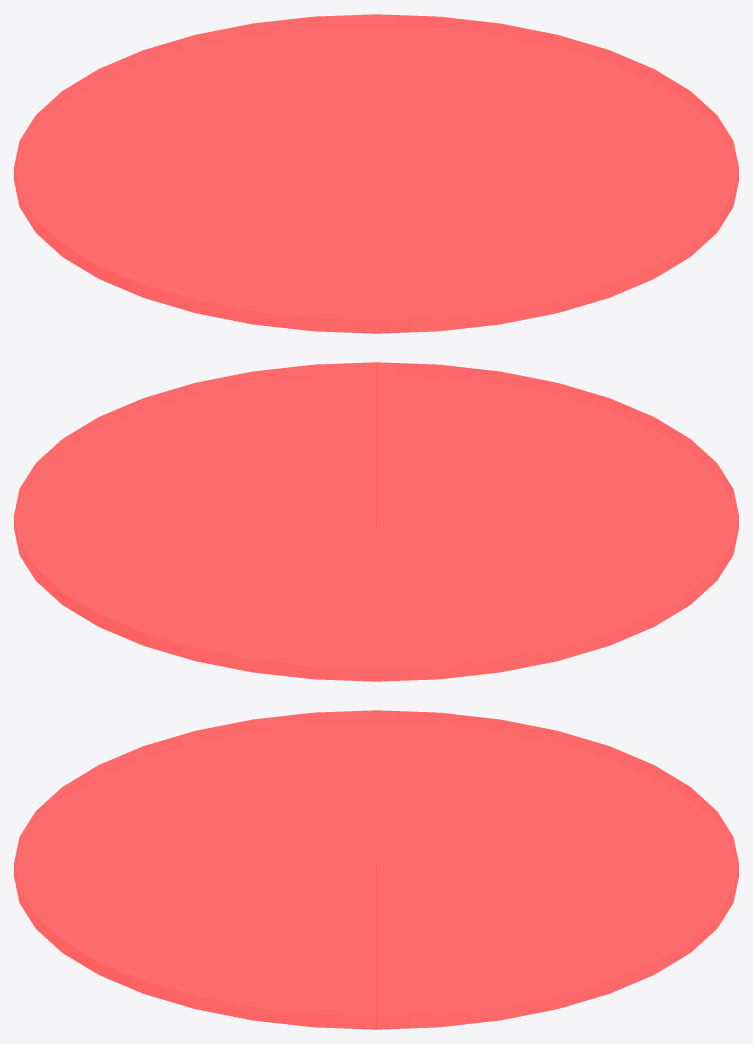
File: red_medium_plane.FBX
3 renders of one model, top to bottom at view 1: azimuth 30°, elevation 25°; view 2: azimuth 150°, elevation 25°; view 3: azimuth 270°, elevation 25°, orthographic.
Parts seen in each view (by area): view 1: Cylinder001; view 2: Cylinder001; view 3: Cylinder001.
Part boxes in pixels (x1,y1,x2,y2): Cylinder001: (14, 14, 738, 333); Cylinder001: (14, 362, 738, 681); Cylinder001: (14, 710, 738, 1029).
Size of the model in its own units: 2678 by 53.06 by 2678.
